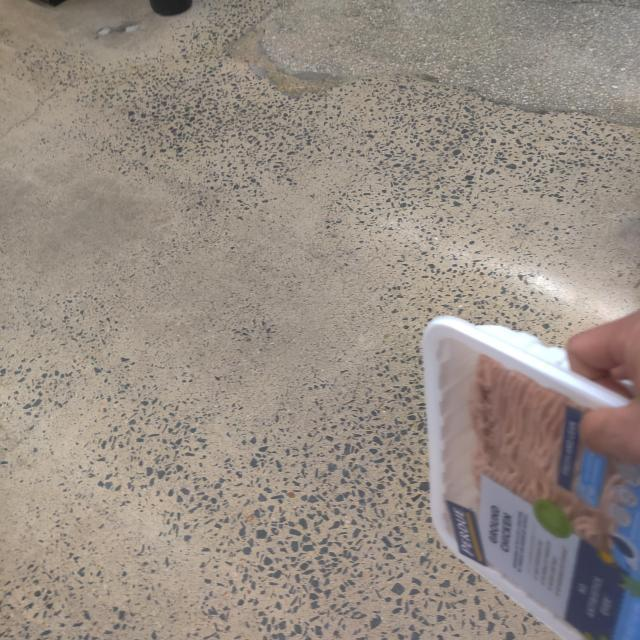Meat: (430, 322, 640, 640)
